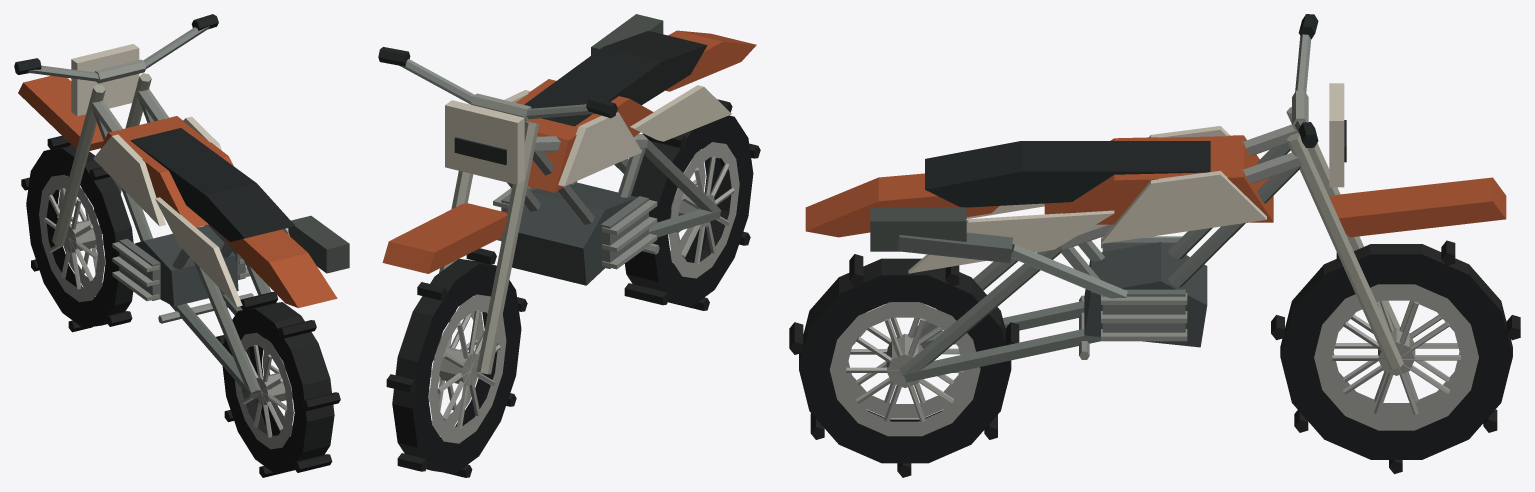
The model's file is motocross.glb.
3 renders of one model, left to right at view 1: azimuth 30°, elevation 25°; view 2: azimuth 150°, elevation 25°; view 3: azimuth 270°, elevation 25°, orthographic. The views are drawn at different scales.
Parts seen in each view (by area): view 1: proposition_motocross; view 2: proposition_motocross; view 3: proposition_motocross.
Boxes of the visible parts, left/top/right/bottom form: proposition_motocross: left=14, top=14, right=349, bottom=477; proposition_motocross: left=378, top=14, right=760, bottom=477; proposition_motocross: left=789, top=14, right=1520, bottom=477.
Bounding box in the file's own units: 0.8655 × 1.31 × 2.2.
